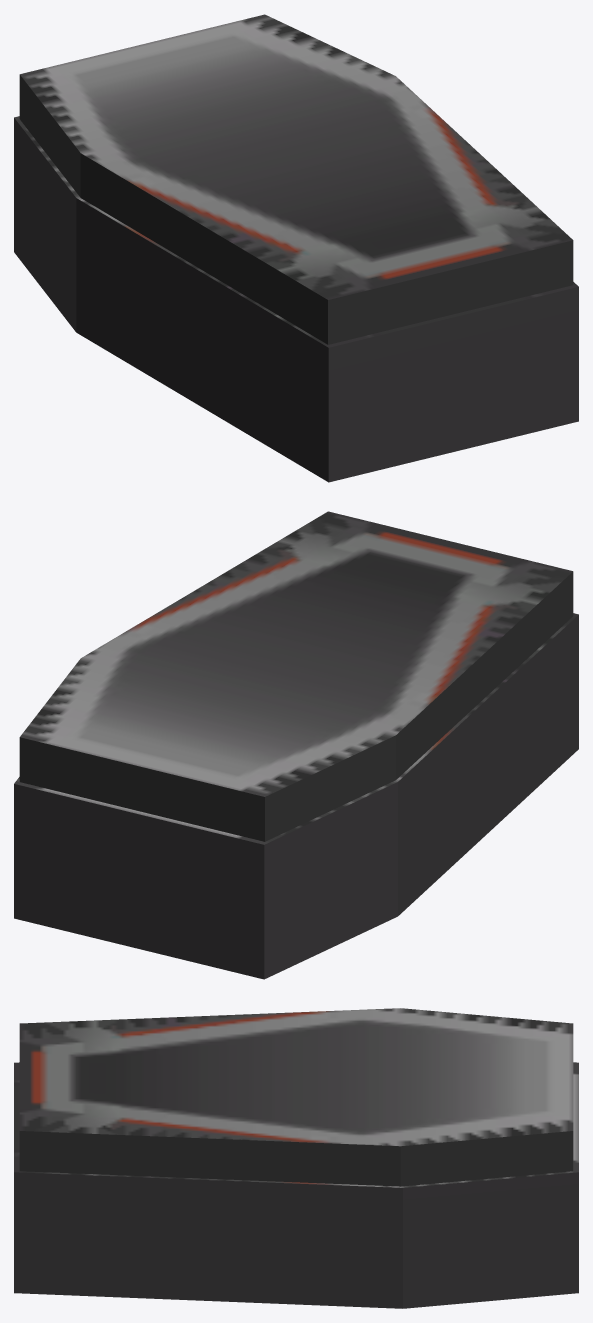
Rendered from Building_DeathrestCasket.obj.
3 renders of one model, top to bottom at view 1: azimuth 30°, elevation 25°; view 2: azimuth 150°, elevation 25°; view 3: azimuth 270°, elevation 25°, orthographic. The views are drawn at different scales.
Visible parts, largest first — view 1: Body; view 2: Body; view 3: Body.
Boxes of the visible parts, bbox=[...] form: Body: bbox=[14, 14, 578, 482]; Body: bbox=[14, 511, 578, 979]; Body: bbox=[14, 1008, 578, 1308].
Size of the model in its own units: 1.12 by 0.6 by 1.91.
Materials: 1 (1 with a texture image).
